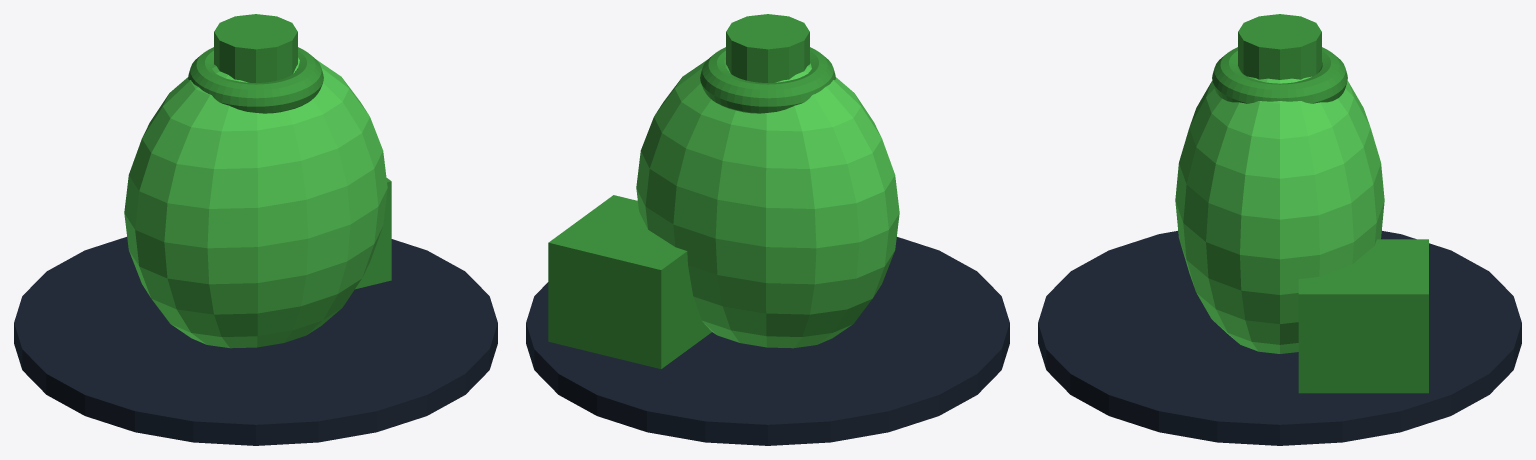
The model's file is goods_food.glb.
The picture shows the model from 3 angles, left to right: view 1: azimuth 30°, elevation 25°; view 2: azimuth 150°, elevation 25°; view 3: azimuth 270°, elevation 25°; orthographic projection.
Visible parts, largest first — view 1: pad.002, Sphere, Cylinder, Torus, crate; view 2: Sphere, pad.002, crate, Cylinder, Torus; view 3: pad.002, Sphere, crate, Cylinder, Torus.
Boxes of the visible parts, x1,y1,x2,y2 form: pad.002: (14,237,497,445); Sphere: (124,57,387,348); Cylinder: (214,14,297,82); Torus: (188,47,323,113); crate: (355,178,391,289); Sphere: (636,57,899,348); pad.002: (526,237,1009,445); crate: (548,195,711,368); Cylinder: (726,14,809,82); Torus: (700,47,835,113); pad.002: (1038,231,1521,445); Sphere: (1175,76,1384,353); crate: (1298,239,1428,393); Cylinder: (1238,14,1321,79); Torus: (1212,47,1347,103).
Size of the model in its own units: 5.2 by 3.72 by 5.2.
